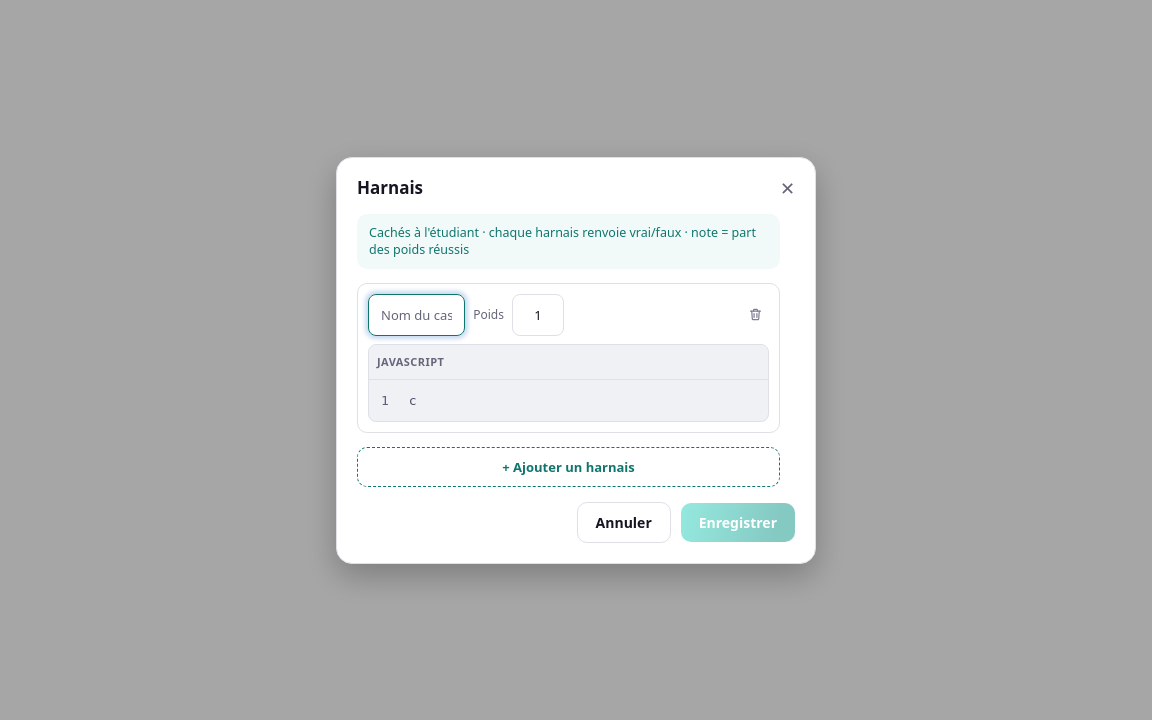
HarnessBody › devient valide une fois le nom saisi
Check: the button "Enregistrer" is disabled, box [681,502,795,542]
Type "Cas nominal" into the field with placeholder "Nom du cas (ex. Cas nominal)" at point(417, 314), box [368,294,465,336]
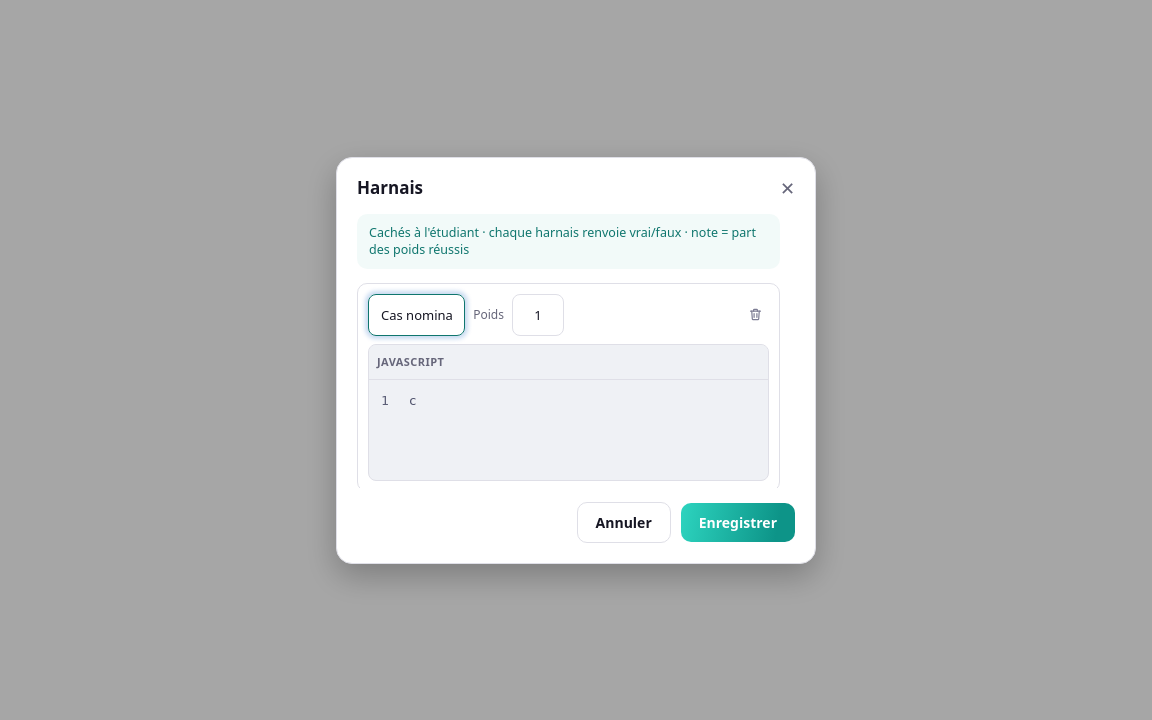
Check: the button "Enregistrer" is enabled, box [681,502,795,542]
